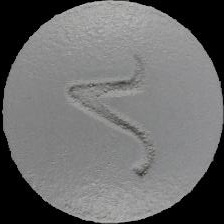52125-771: (0, 0, 224, 224)
